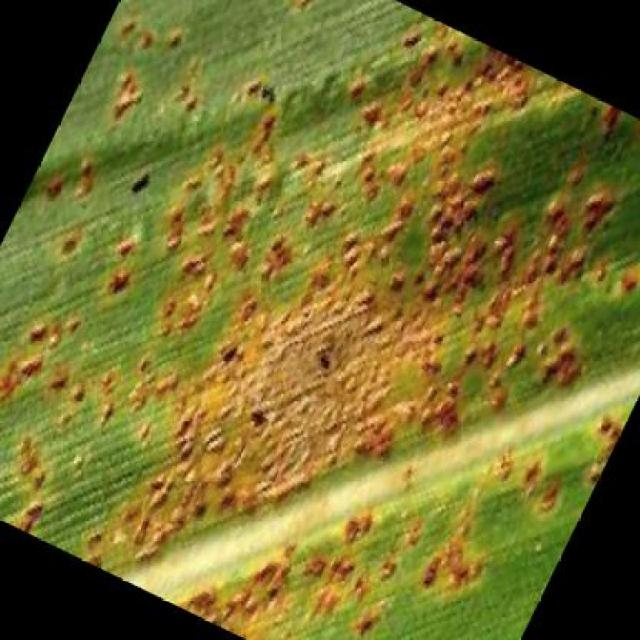Corn_Rust: (73, 82, 562, 535)
